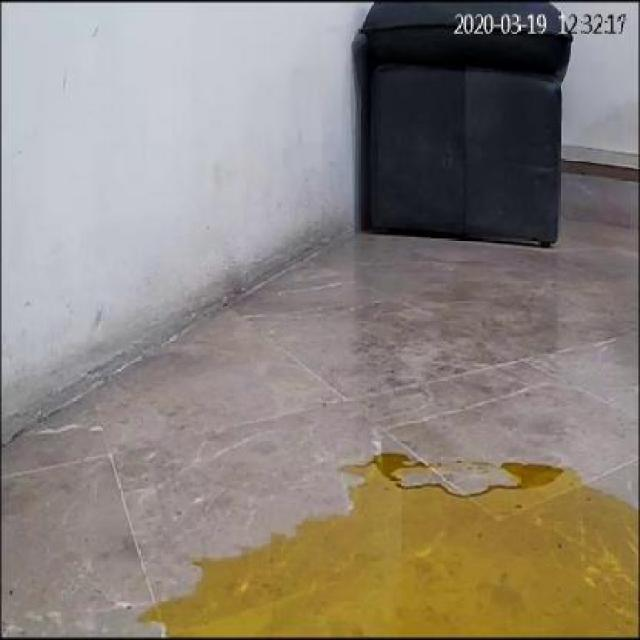spill: (138, 454, 638, 640)
